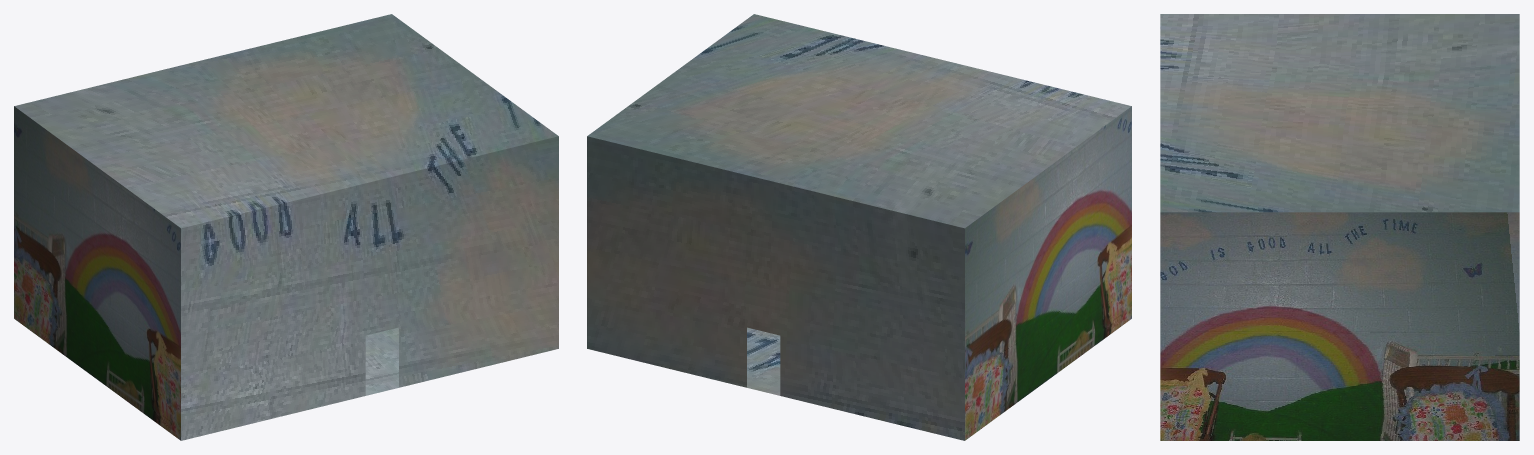
File: daycare1.glb
3 views of the same model, side by side, from view 1: azimuth 30°, elevation 25°; view 2: azimuth 150°, elevation 25°; view 3: azimuth 270°, elevation 25° (orthographic). The views are drawn at different scales.
Visible parts, largest first — view 1: daycare-col; view 2: daycare-col; view 3: daycare-col.
Boxes of the visible parts, box(x1,y1,x2,y2) form: daycare-col: box(14, 14, 558, 440); daycare-col: box(587, 14, 1131, 440); daycare-col: box(1160, 14, 1519, 440).
Bounding box in the file's own units: 12.02 × 6.47 × 9.21.
1 material, 1 textured.
